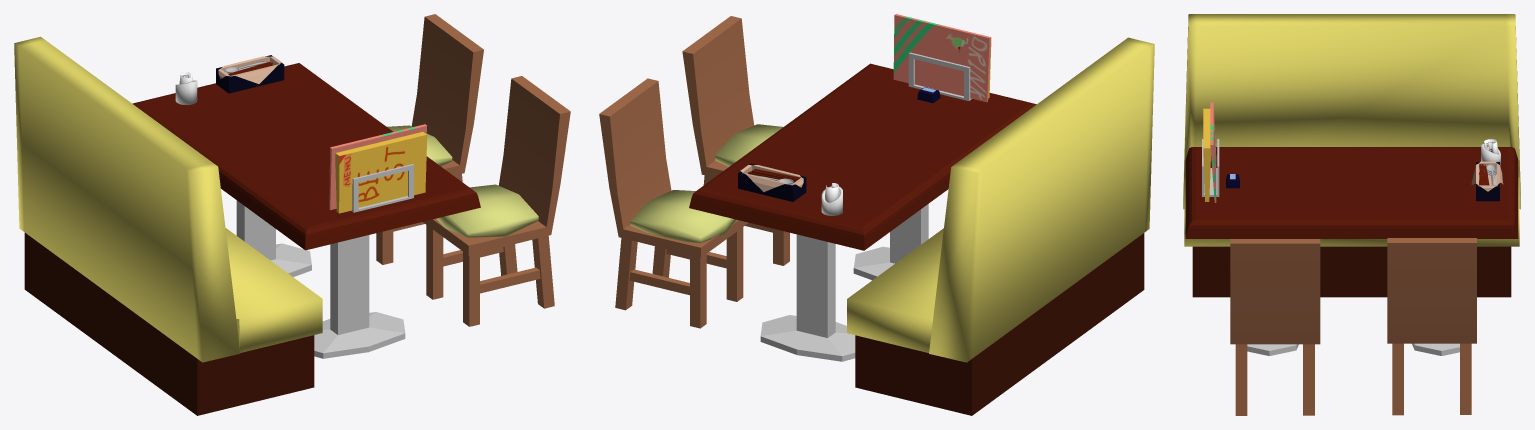
Rendered from TableSet_4PC.fbx.
3 renders of one model, left to right at view 1: azimuth 30°, elevation 25°; view 2: azimuth 150°, elevation 25°; view 3: azimuth 270°, elevation 25°, orthographic. The views are drawn at different scales.
Parts seen in each view (by area): view 1: Sofa2, Table, Chair, Sofa_Leg2, Table_Leg, Menu, Cushion, MenuStand, Box, Sheet; view 2: Sofa2, Table, Chair, Sofa_Leg2, Table_Leg, Menu, Cushion, MenuStand, Box, Sheet; view 3: Sofa2, Table, Chair, Sofa_Leg2, Menu, Table_Leg, Sheet, MenuStand, Box.
Boxes of the visible parts, x1,y1,x2,y2 form: Sofa2: (14, 36, 322, 362); Table: (132, 63, 480, 250); Chair: (376, 14, 570, 326); Sofa_Leg2: (24, 233, 314, 415); Table_Leg: (236, 200, 405, 358); Menu: (329, 124, 427, 213); Cushion: (387, 125, 538, 237); MenuStand: (351, 164, 413, 212); Box: (216, 55, 284, 93); Sheet: (218, 56, 281, 83); Sofa2: (847, 37, 1154, 362); Table: (689, 63, 1036, 250); Chair: (599, 16, 789, 328); Sofa_Leg2: (855, 233, 1144, 415); Table_Leg: (760, 204, 928, 361); Menu: (893, 14, 991, 102); Cushion: (630, 124, 783, 242); MenuStand: (908, 52, 971, 100); Box: (738, 163, 806, 201); Sheet: (740, 165, 803, 191); Sofa2: (1183, 14, 1520, 246); Table: (1185, 147, 1518, 238); Chair: (1230, 238, 1476, 415); Sofa_Leg2: (1192, 246, 1511, 297); Menu: (1203, 102, 1216, 202); Table_Leg: (1247, 343, 1459, 355); Sheet: (1471, 161, 1503, 191); MenuStand: (1202, 139, 1219, 196); Box: (1476, 162, 1499, 201).
Bounding box in the file's own units: 200 × 117 × 158.
